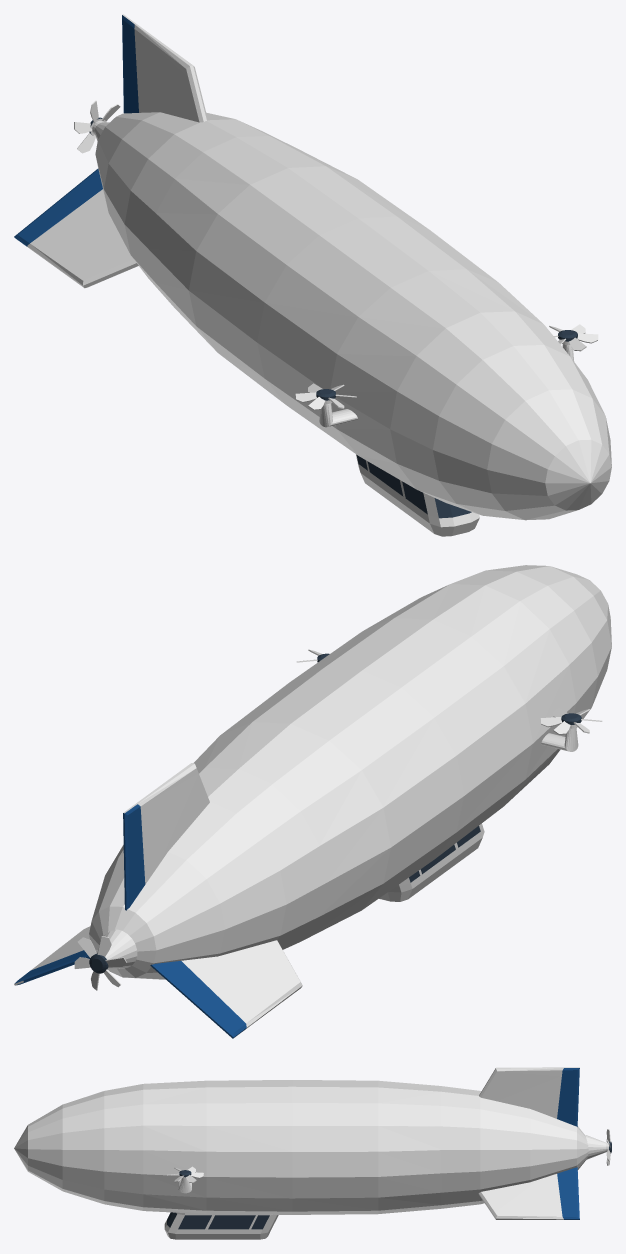
File: Ship.glb
The picture shows the model from 3 angles, top to bottom: view 1: azimuth 30°, elevation 25°; view 2: azimuth 150°, elevation 25°; view 3: azimuth 270°, elevation 25°; orthographic projection. The views are drawn at different scales.
Visible parts, largest first — view 1: Airship, helix2, Helix, helix1; view 2: Airship, Helix, helix2; view 3: Airship, helix1.
Part boxes in pixels (x1=…): Airship: x1=14, y1=14, x2=611, y2=536; helix2: x1=295, y1=383, x2=356, y2=410; Helix: x1=74, y1=100, x2=120, y2=153; helix1: x1=549, y1=324, x2=598, y2=351; Airship: x1=14, y1=565, x2=611, y2=1038; Helix: x1=74, y1=936, x2=126, y2=990; helix2: x1=540, y1=707, x2=602, y2=734; Airship: x1=14, y1=1067, x2=608, y2=1239; helix1: x1=167, y1=1166, x2=203, y2=1182.
Size of the model in its own units: 60.49 by 55.12 by 177.
Materials: 1 (1 with a texture image).
